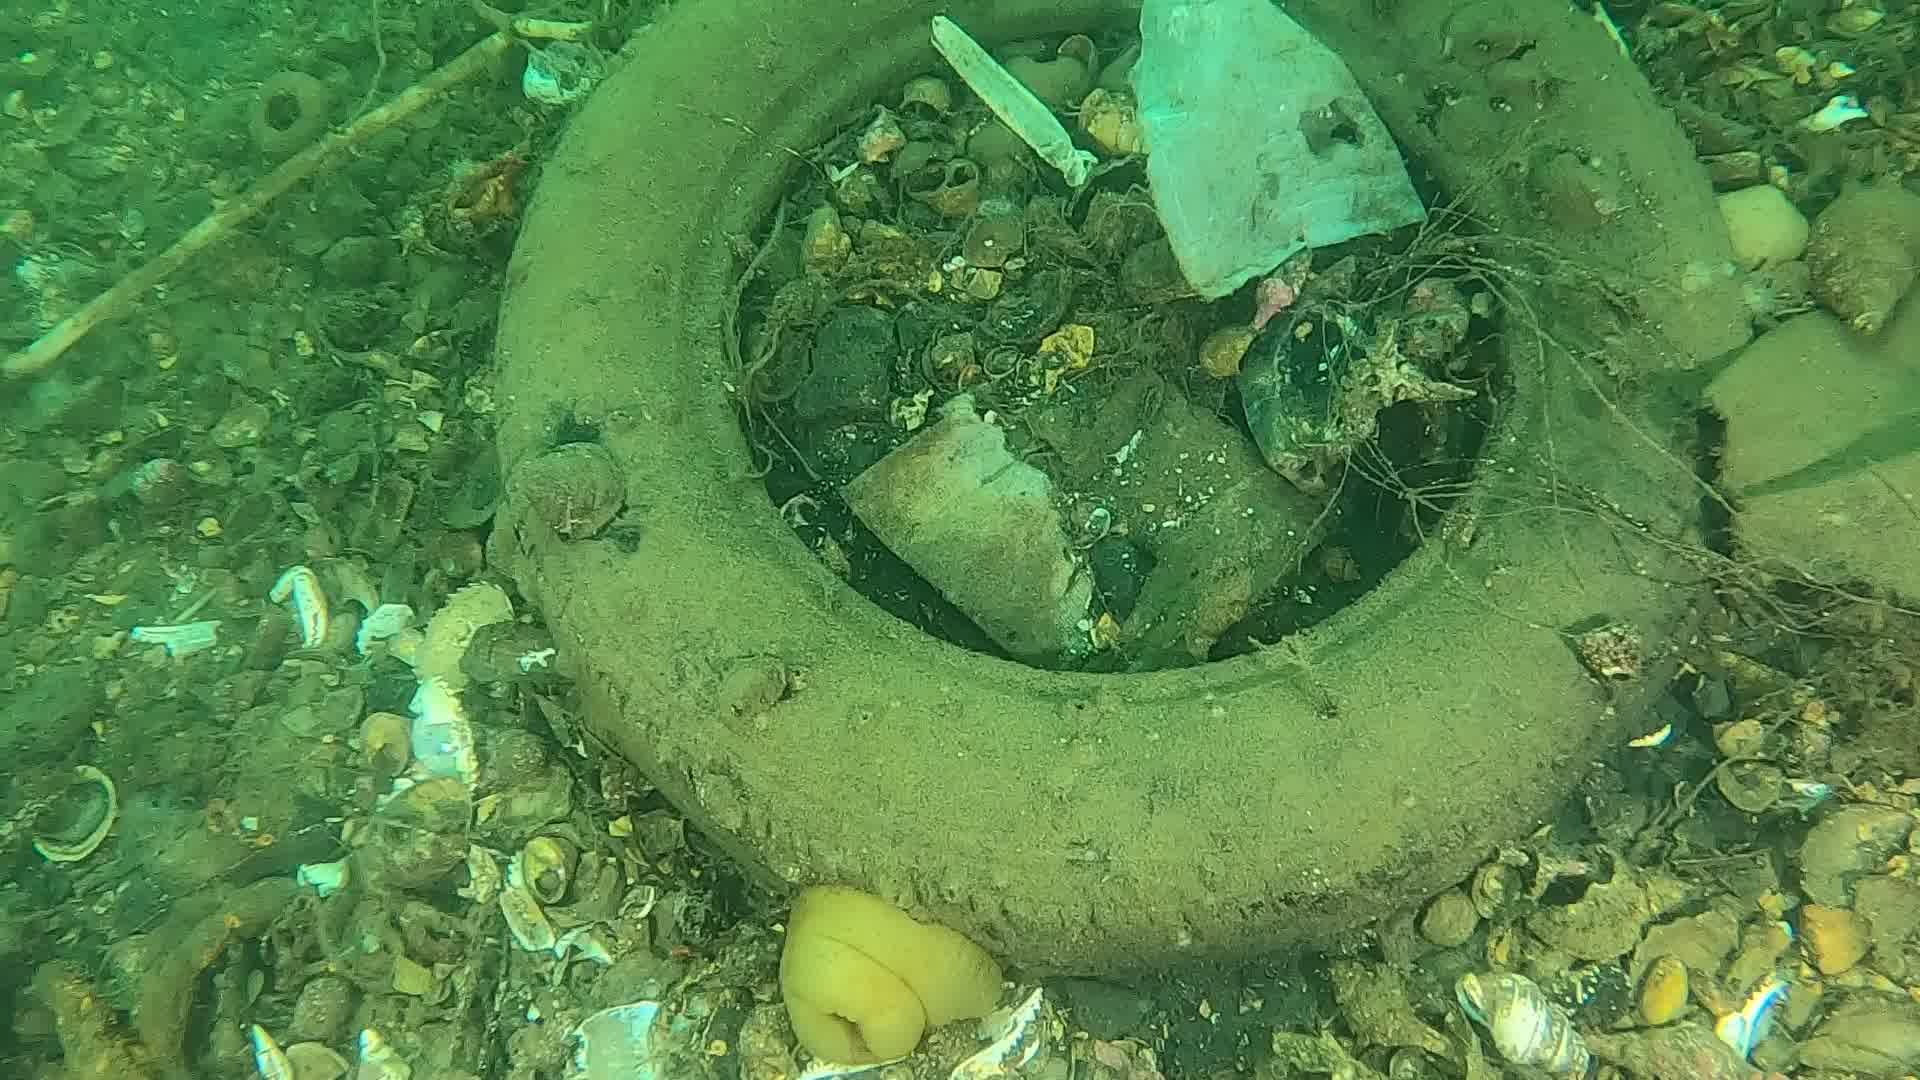tire: (477, 3, 1716, 953)
